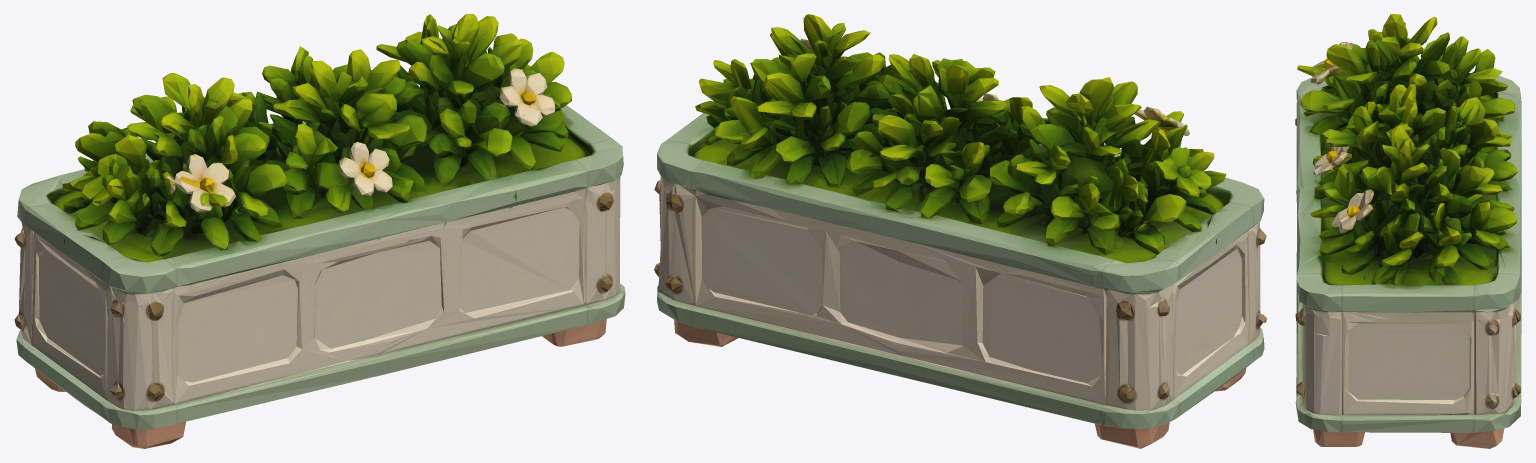
File: 11-planter.glb
The picture shows the model from 3 angles, left to right: view 1: azimuth 30°, elevation 25°; view 2: azimuth 150°, elevation 25°; view 3: azimuth 270°, elevation 25°; orthographic projection. The views are drawn at different scales.
Bounding box in the file's own units: 0.9994 × 0.5745 × 0.4297.
Materials: 1 (1 with a texture image).
